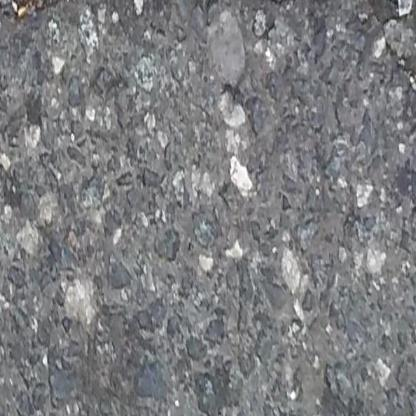Cracks: (357, 0, 416, 109), (0, 0, 83, 18), (252, 0, 337, 7)
